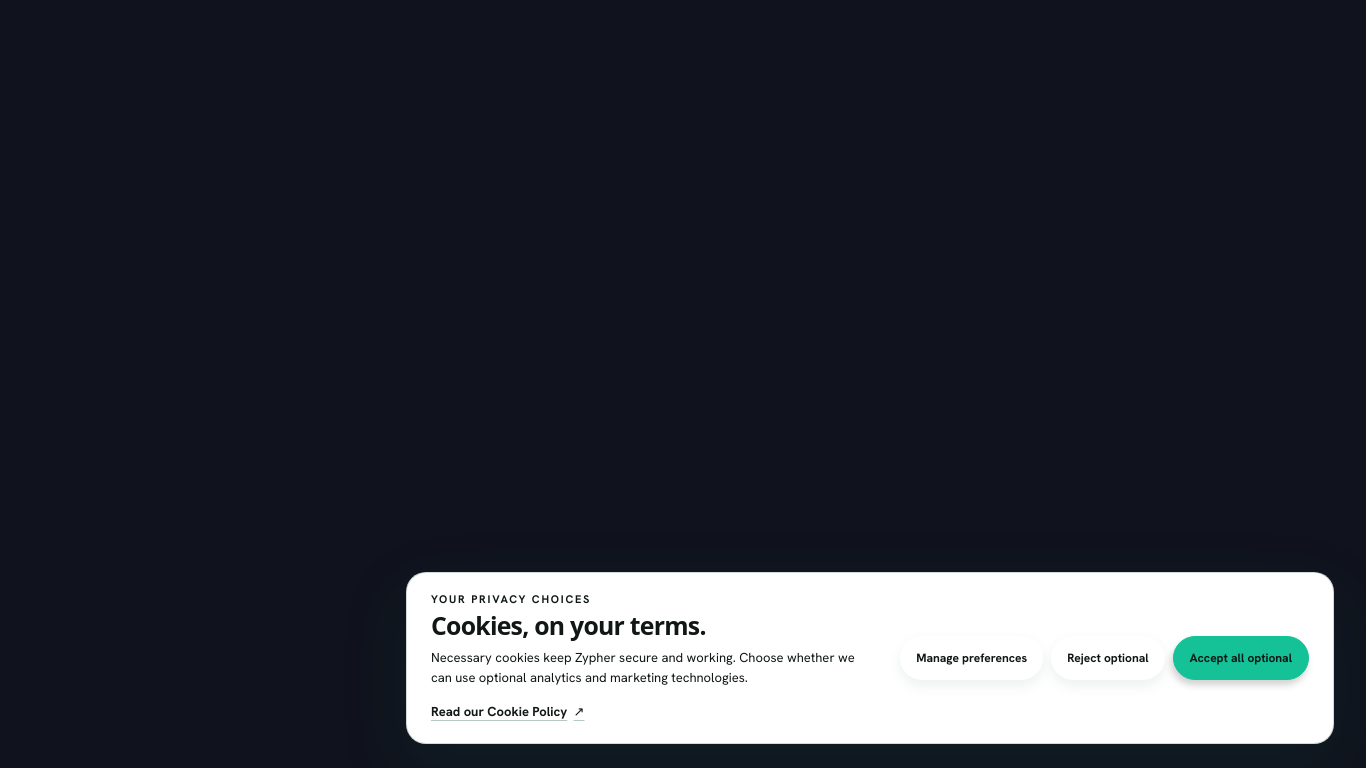
Test case: consent manager › should reopen detailed preferences from the footer event
Expected: the dialog named "Cookie consent" is shown, left=406, top=572, right=1334, bottom=744
Click the button "Reject optional".
click(1108, 658)  # box left=1051, top=636, right=1164, bottom=680
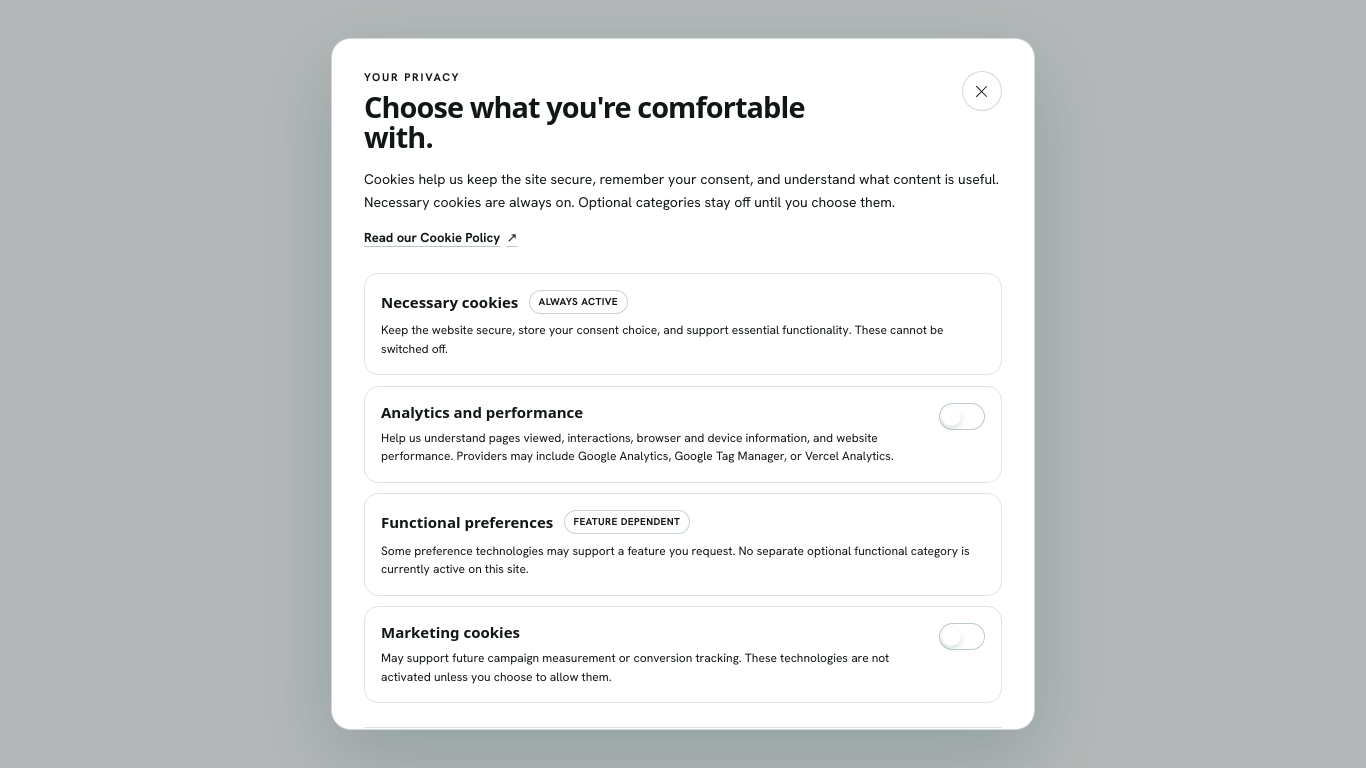
Result: the heading "Analytics and performance" is shown at left=381, top=403, right=583, bottom=422
Result: the button named "Close cookie settings" is shown at left=962, top=71, right=1002, bottom=111
